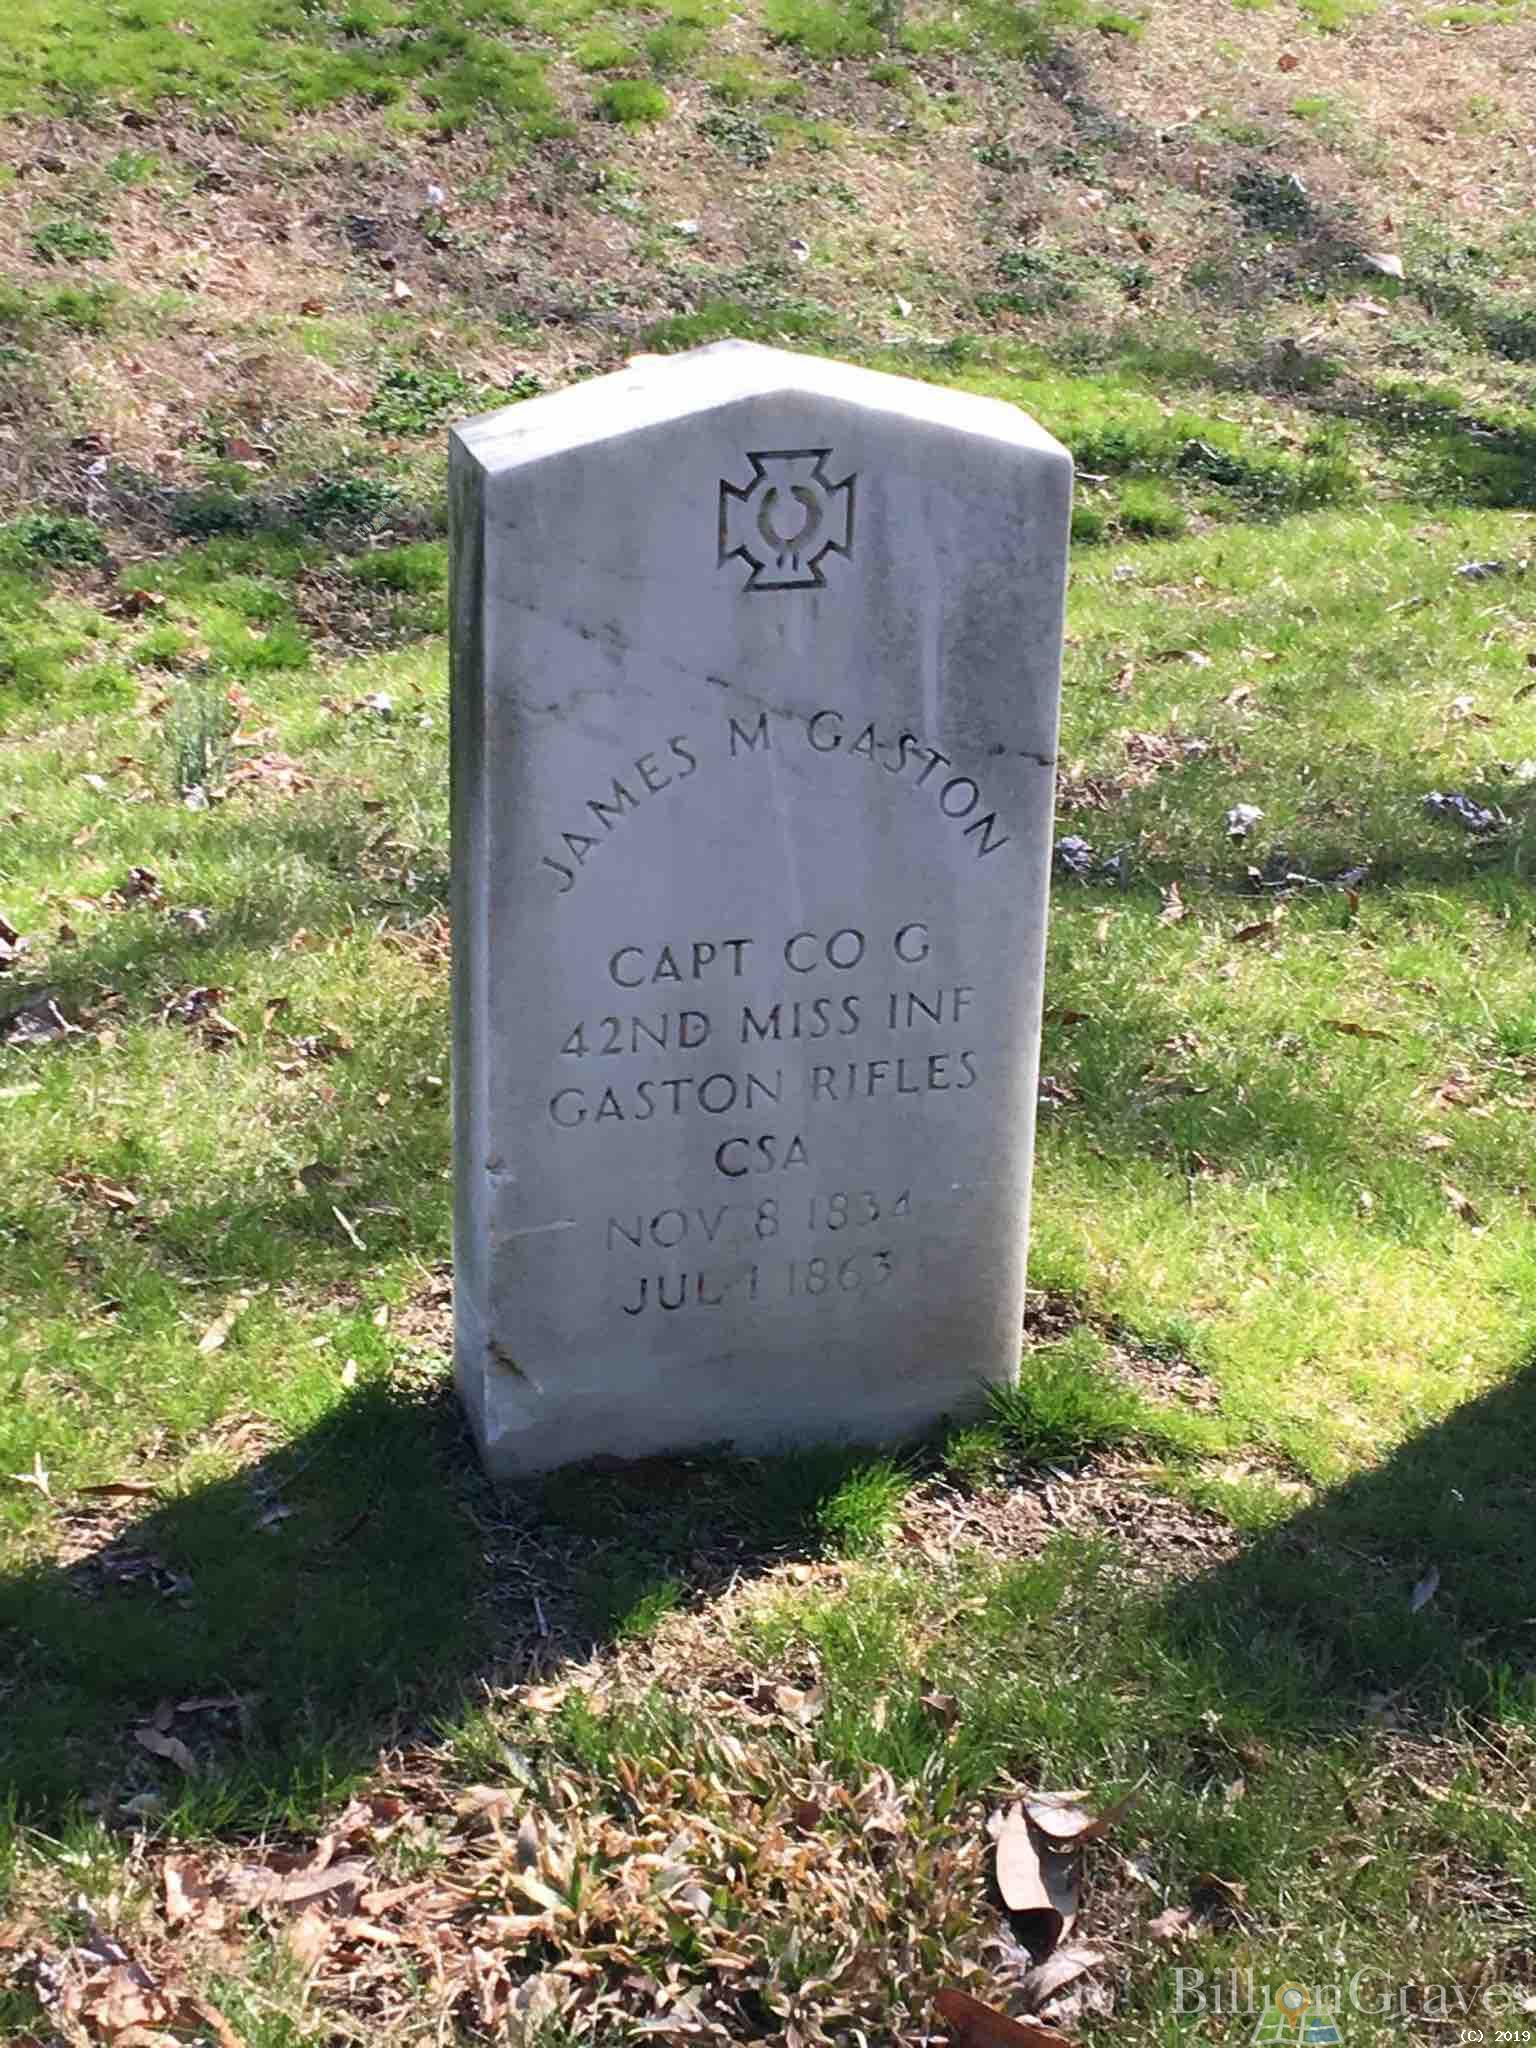military: (436, 342, 1073, 1459)
